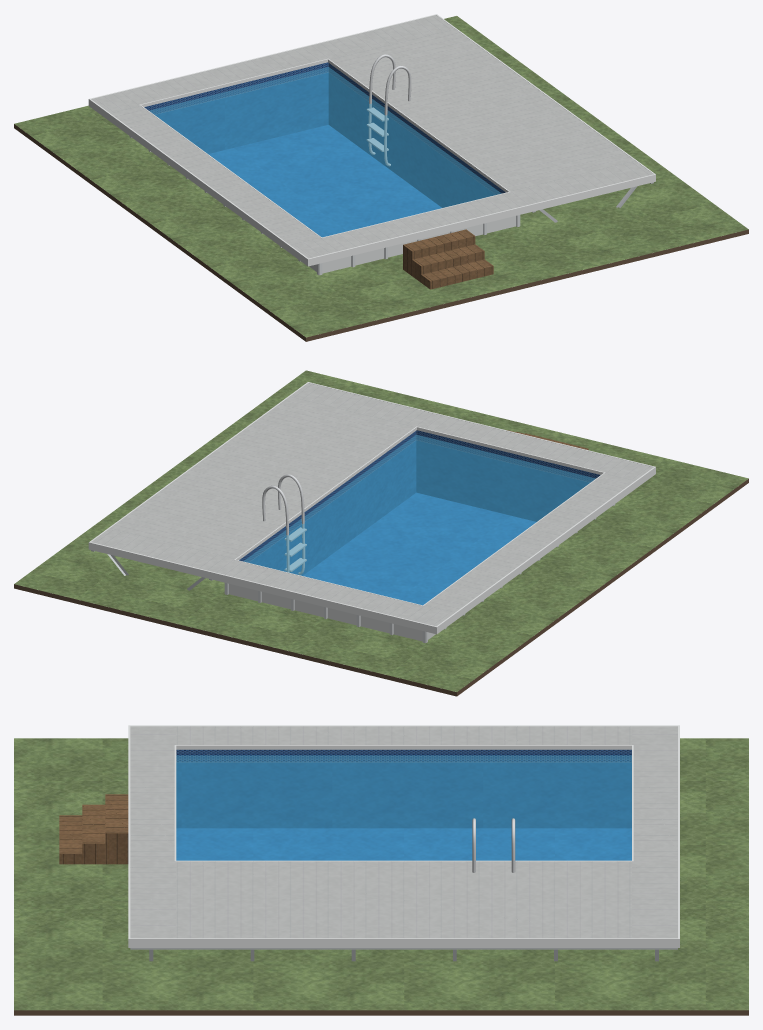
Rendered from kayak-pool-12x20-white-side-rec-nofence.30ebbb5793.glb.
3 renders of one model, top to bottom at view 1: azimuth 30°, elevation 25°; view 2: azimuth 150°, elevation 25°; view 3: azimuth 270°, elevation 25°, orthographic. The views are drawn at different scales.
Parts seen in each view (by area): view 1: ground, deck, water, liner_wall, liner_floor, fascia, steps, soil, wall, steel; view 2: ground, deck, water, liner_wall, liner_floor, fascia, soil, wall, steel; view 3: ground, deck, water, liner_wall, liner_floor, fascia, soil, steps, stud, steel.
Part boxes in pixels (x1,y1,x2,y2): ground: (14, 16, 748, 337); deck: (91, 15, 653, 258); water: (149, 67, 500, 237); liner_wall: (144, 62, 505, 207); liner_floor: (208, 125, 441, 237); fascia: (88, 14, 655, 266); steps: (403, 229, 493, 289); soil: (14, 124, 748, 341); wall: (309, 216, 516, 273); steel: (366, 54, 411, 166); ground: (14, 370, 748, 691); deck: (91, 383, 653, 626); water: (243, 434, 595, 605); liner_wall: (239, 430, 600, 575); liner_floor: (303, 492, 536, 605); fascia: (88, 382, 655, 634); soil: (14, 479, 748, 696); wall: (228, 583, 435, 641); steel: (262, 474, 306, 574); ground: (14, 738, 748, 1010); deck: (130, 726, 677, 938); water: (176, 755, 631, 860); liner_wall: (176, 749, 631, 828); liner_floor: (176, 828, 631, 860); fascia: (128, 725, 679, 947); soil: (14, 1010, 748, 1015); steps: (59, 794, 128, 864); stud: (130, 948, 677, 961); steel: (472, 818, 515, 872).
Bounding box in the file's own units: 8.53 × 1.9 × 9.75.
Materials: 12 (5 with a texture image).
